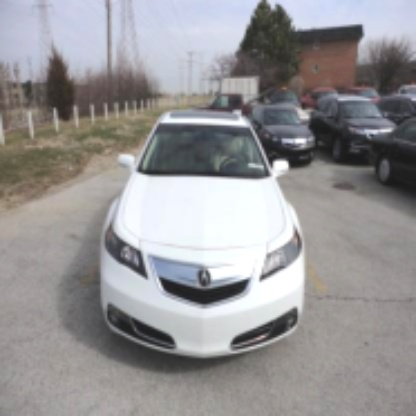Vehicle: (96, 108, 306, 369)
